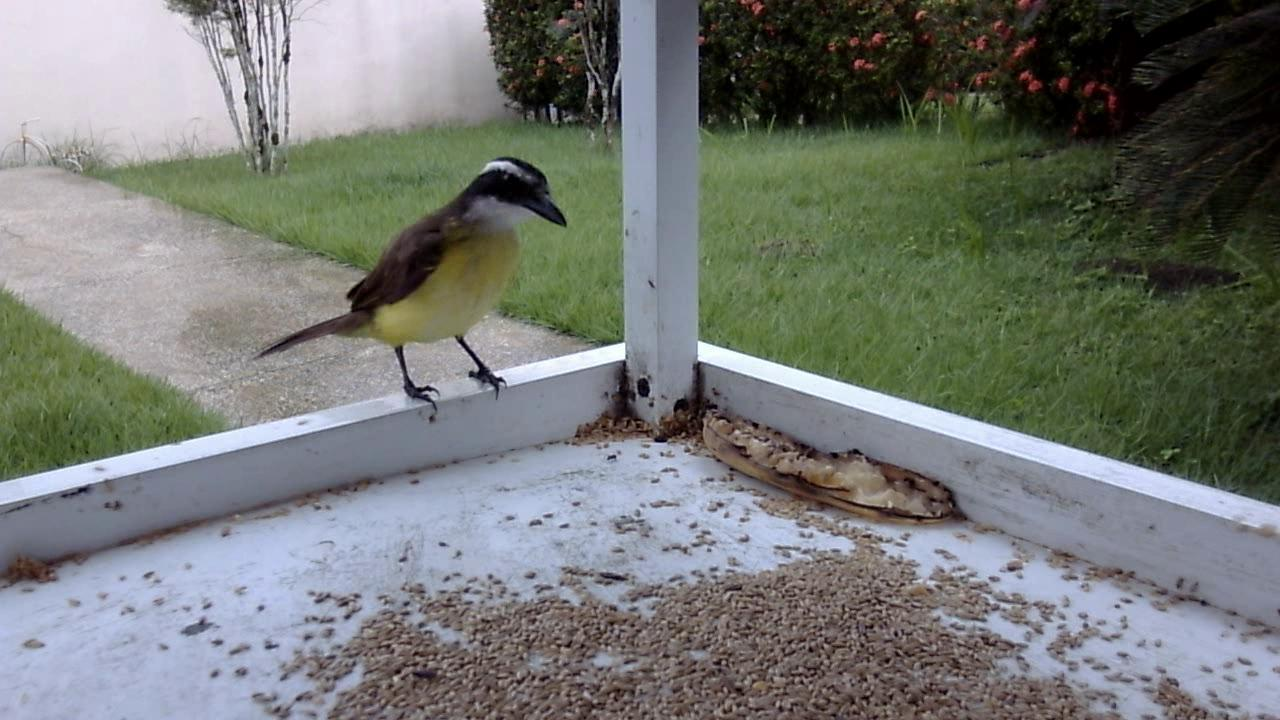bem_te_vi: (248, 151, 571, 432)
